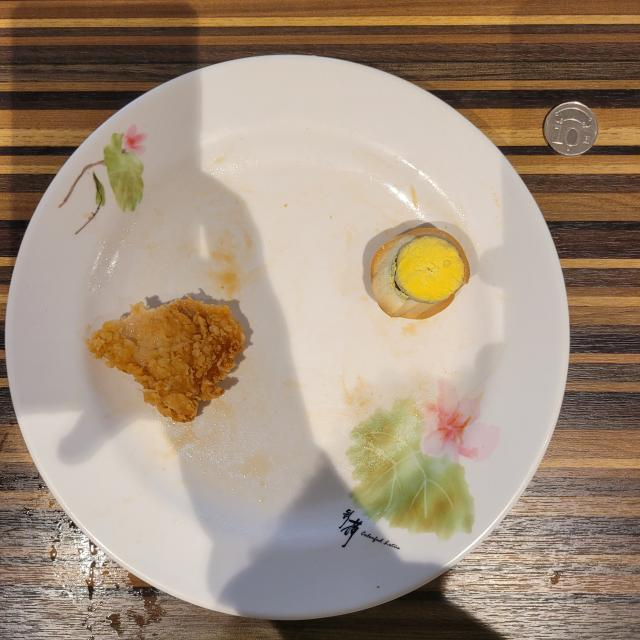coin: (544, 101, 599, 156)
fried chicken cutlet: (86, 298, 245, 422)
soy egg: (370, 228, 470, 319)
